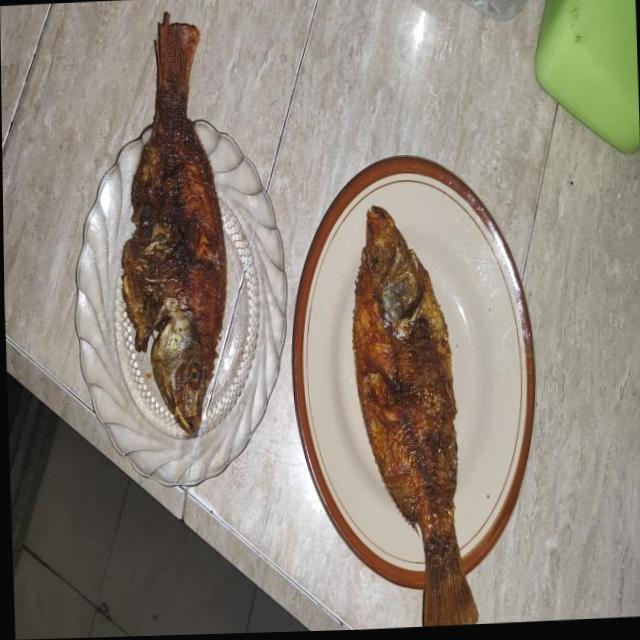ikan_mujair: (352, 205, 477, 626), (124, 13, 227, 433)
